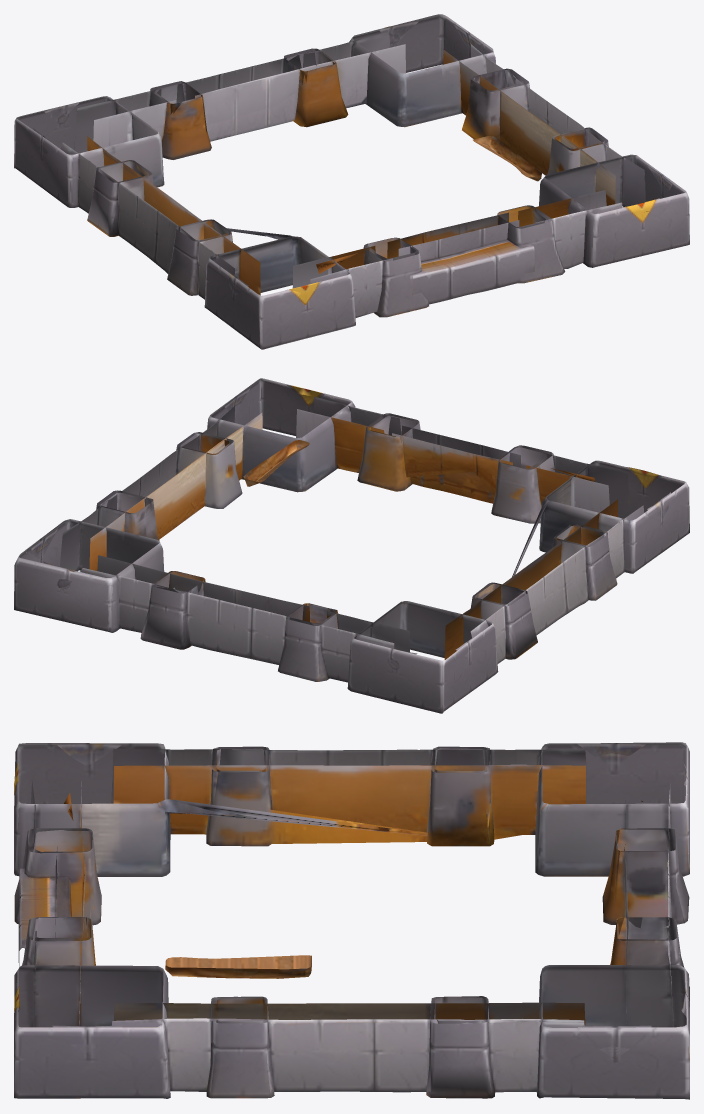
File: campo-de-lanzadores_e1.glb
3 renders of one model, top to bottom at view 1: azimuth 30°, elevation 25°; view 2: azimuth 150°, elevation 25°; view 3: azimuth 270°, elevation 25°, orthographic. The views are drawn at different scales.
Parts seen in each view (by area): view 1: campo-de-lanzadores_cuerpo; view 2: campo-de-lanzadores_cuerpo; view 3: campo-de-lanzadores_cuerpo.
Boxes of the visible parts, x1,y1,x2,y2 form: campo-de-lanzadores_cuerpo: (14,14,689,349); campo-de-lanzadores_cuerpo: (14,378,689,713); campo-de-lanzadores_cuerpo: (14,742,689,1099).
Size of the model in its own units: 1.42 by 0.1724 by 1.42.
Materials: 1 (1 with a texture image).
